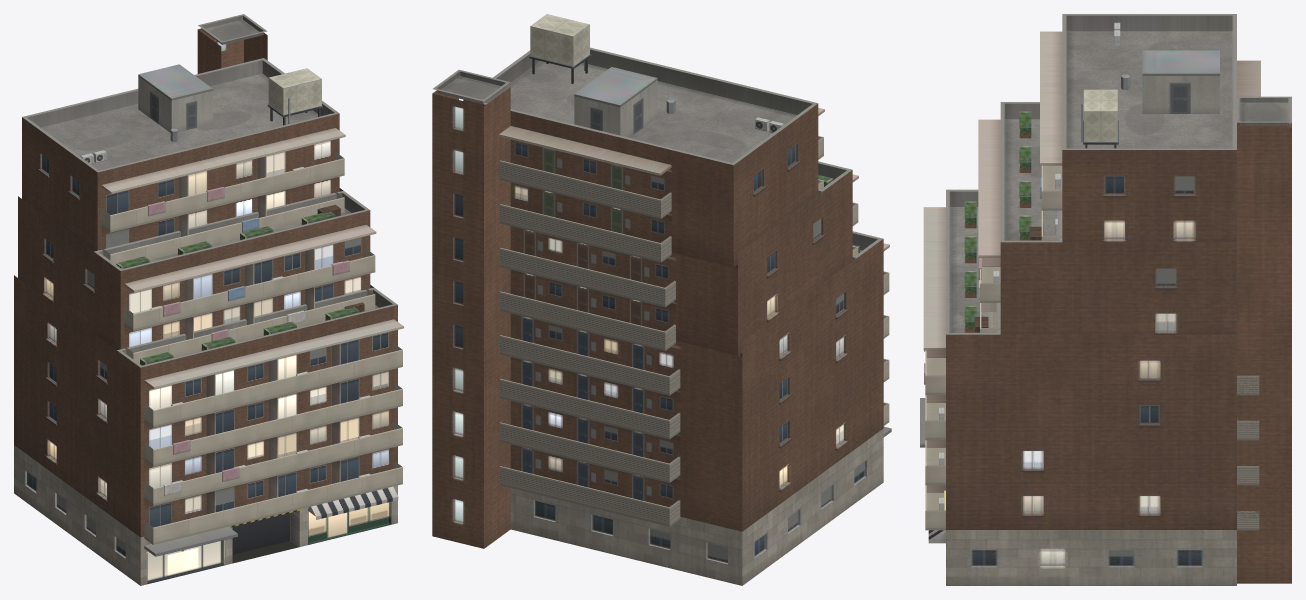
Rendered from tokyo_apartment_c.glb.
The picture shows the model from 3 angles, left to right: view 1: azimuth 30°, elevation 25°; view 2: azimuth 150°, elevation 25°; view 3: azimuth 270°, elevation 25°; orthographic projection. The views are drawn at different scales.
Parts seen in each view (by area): view 1: tokyo_apartment_c; view 2: tokyo_apartment_c; view 3: tokyo_apartment_c.
Boxes of the visible parts, box(x1,y1,x2,y2) form: tokyo_apartment_c: box(14, 14, 403, 585); tokyo_apartment_c: box(432, 14, 891, 585); tokyo_apartment_c: box(920, 14, 1291, 585).
Bounding box in the file's own units: 20.22 × 30 × 21.7.
1 material, 1 textured.
